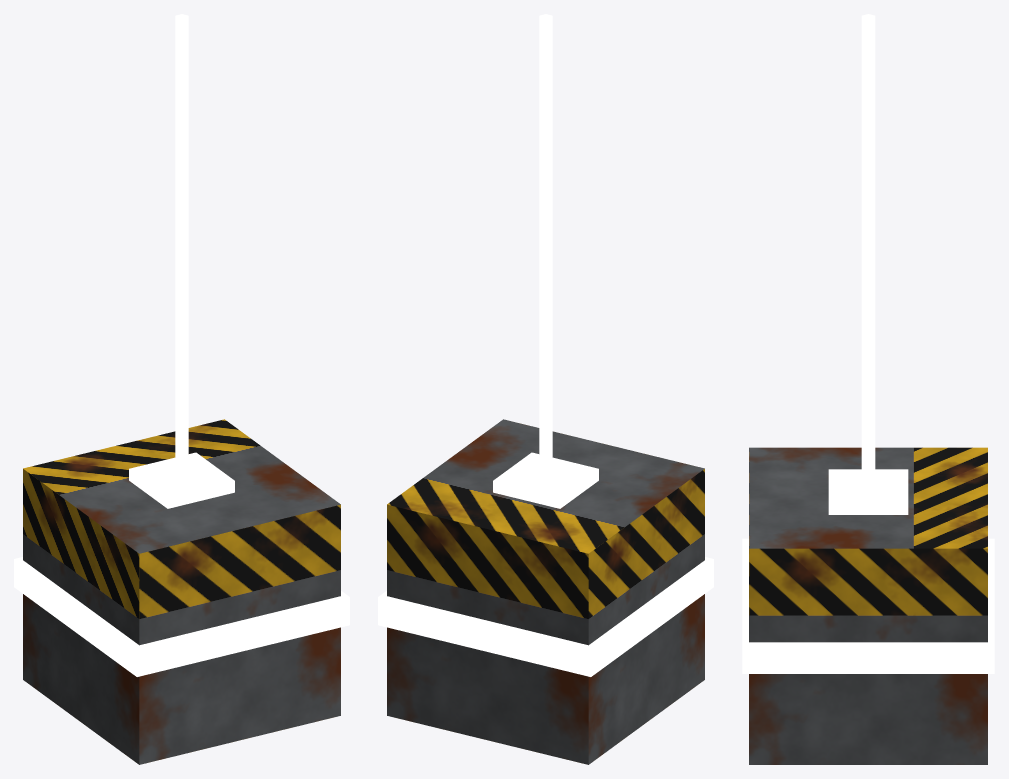
File: loot_repair.glb
3 views of the same model, side by side, from view 1: azimuth 30°, elevation 25°; view 2: azimuth 150°, elevation 25°; view 3: azimuth 270°, elevation 25° (orthographic). The views are drawn at different scales.
Parts seen in each view (by area): view 1: Loot; view 2: Loot; view 3: Loot.
Part boxes in pixels (x1,y1,x2,y2): Loot: [14, 14, 349, 764]; Loot: [378, 14, 713, 764]; Loot: [742, 14, 994, 764].
Size of the model in its own units: 0.95 by 2.9 by 0.95.
2 materials, 1 textured.
